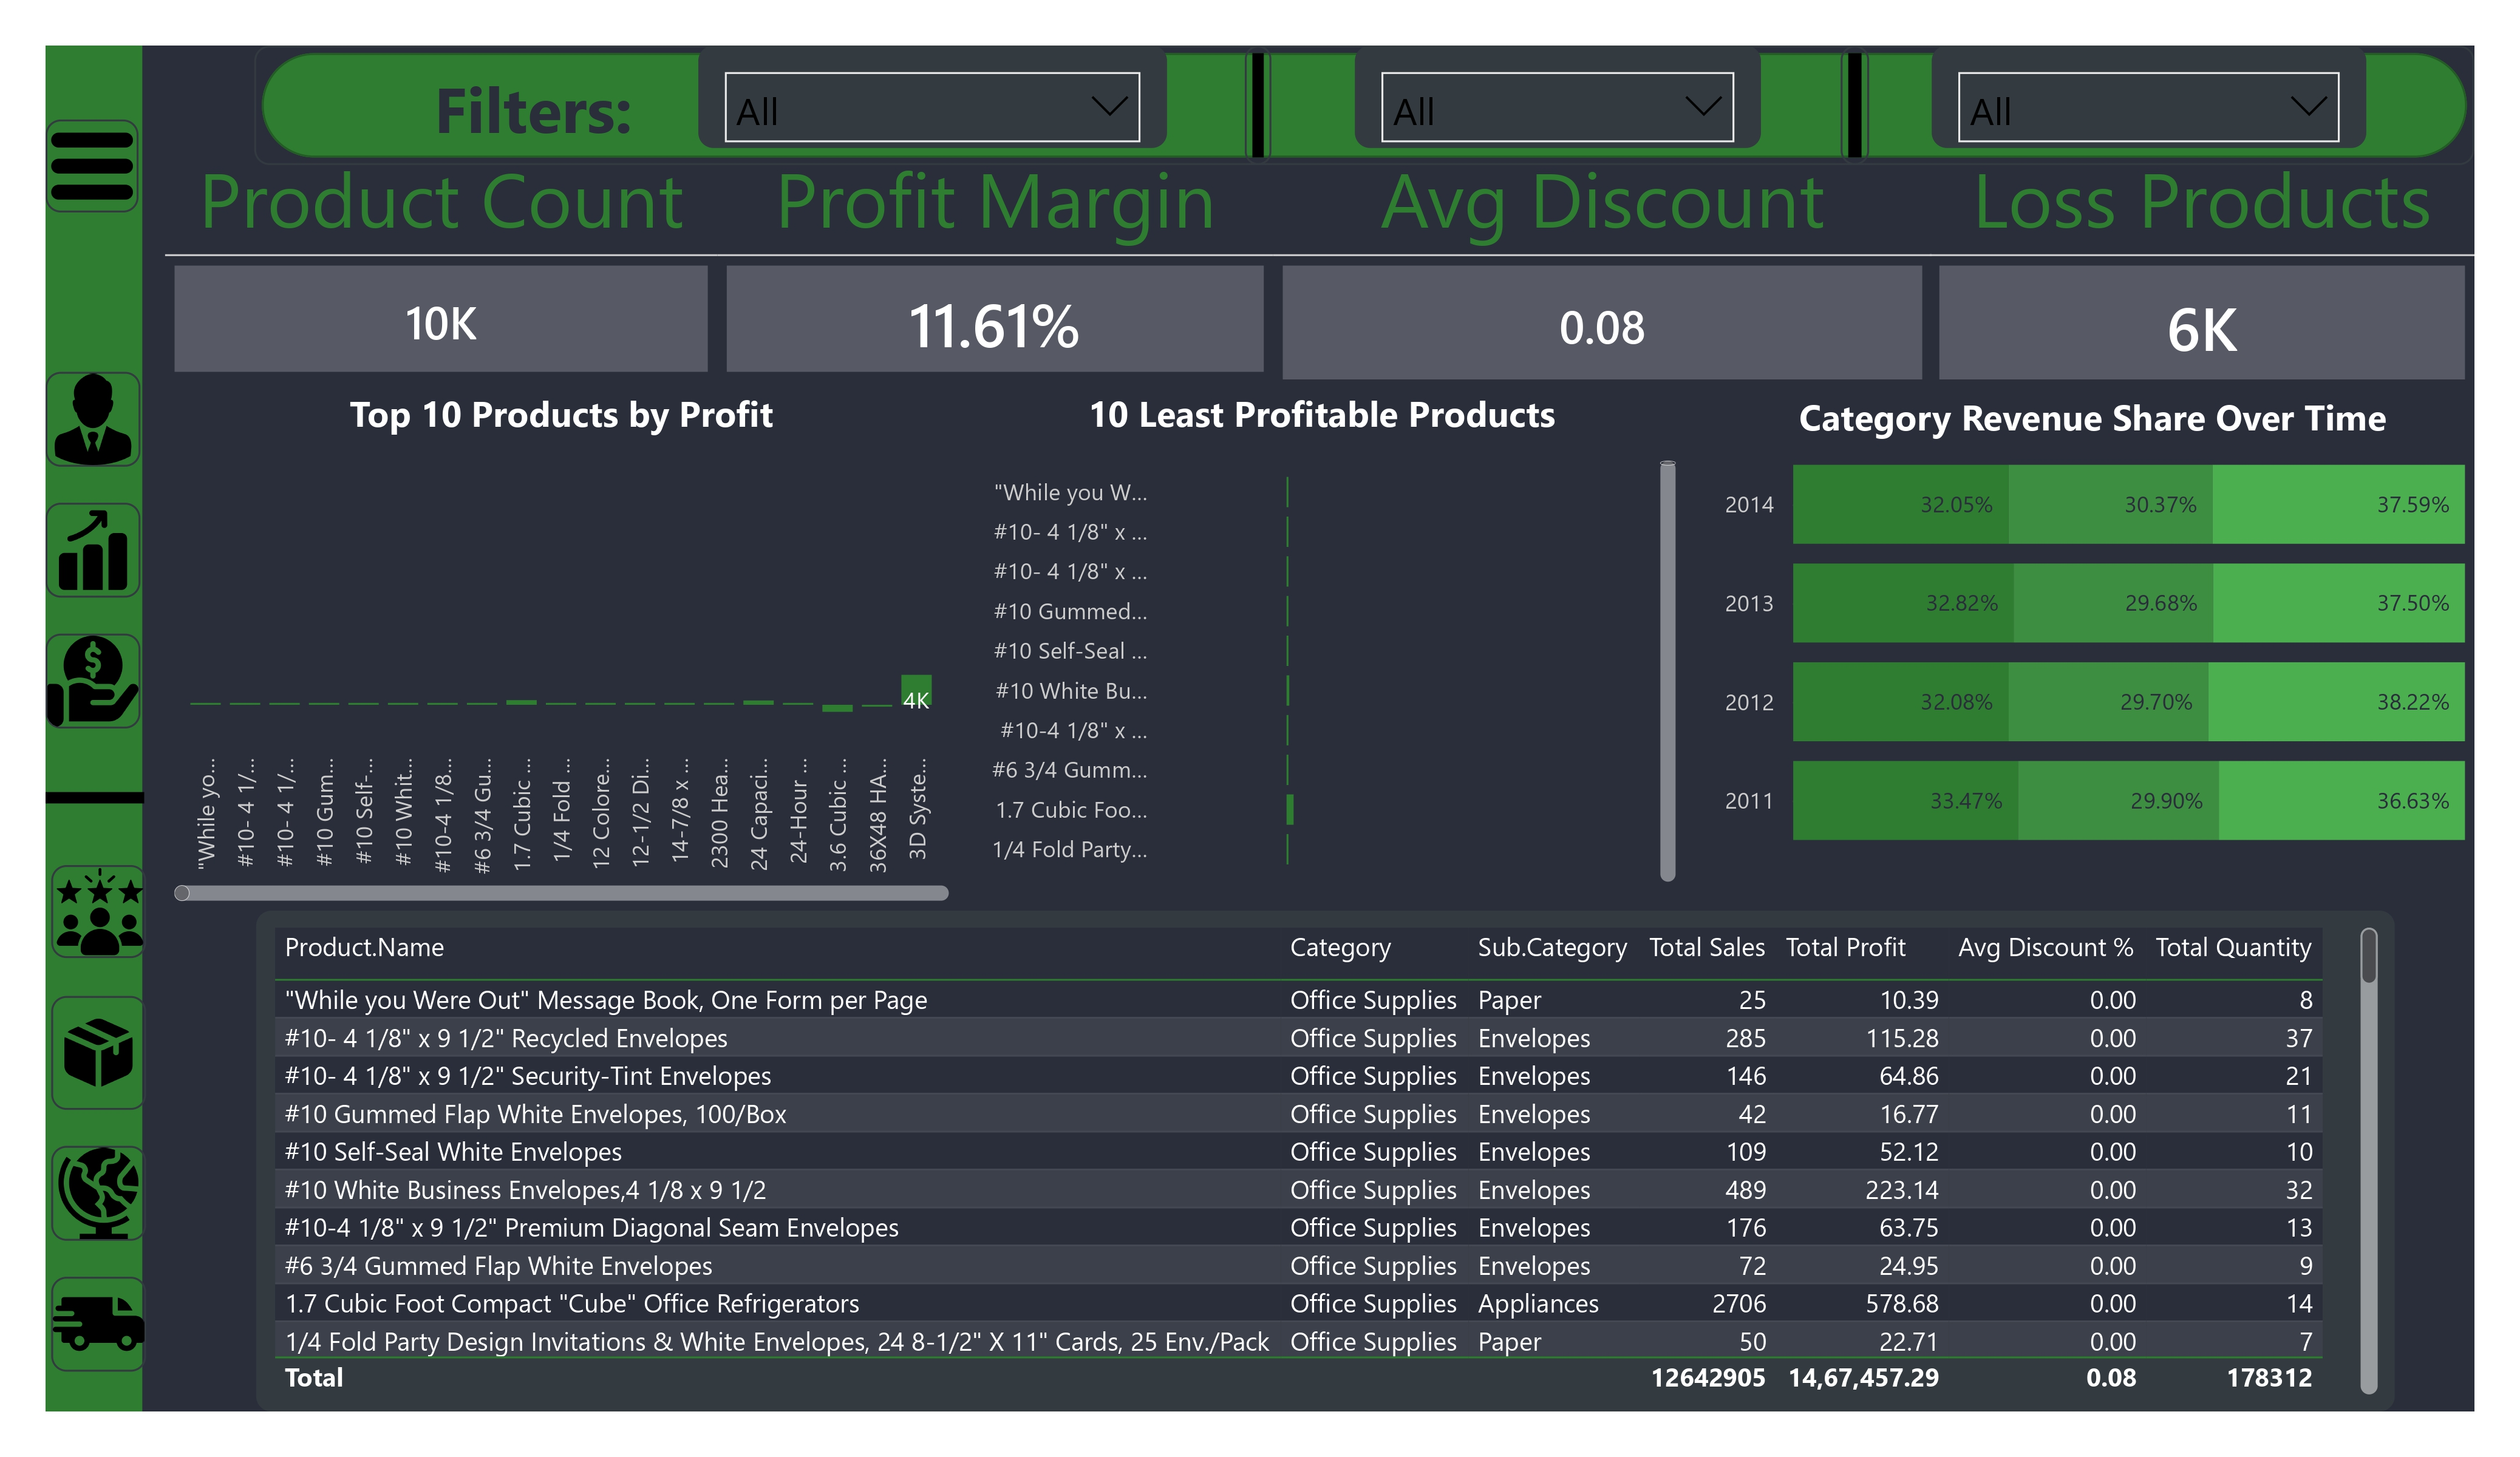

Layout of this report page (visuals, bound fields, positions):
{"tool":"powerbi","page":{"name":"Products","canvas":[1280,720],"ordinal":5},"visuals":[{"type":"group","id":"g1","title":"side bar collapsed","box":[0,0,52.7,720.4],"z":0},{"type":"shape","box":[0,0,50.6,720.4],"z":0,"group":"g1"},{"type":"shape","box":[110.3,0,1169.7,62.6],"z":0,"group":"g2"},{"type":"group","id":"g2","title":"title slicer","box":[110.3,0,1169.7,62.6],"z":1000},{"type":"slicer","fields":{"Values":["orders.Category"]},"box":[344.2,0,247.4,53.6],"z":1000,"group":"g2"},{"type":"image","box":[0,241.4,49.8,49.8],"z":1000,"group":"g1"},{"type":"slicer","fields":{"Values":["DateTable.Year"]},"box":[690,0,214.6,53.6],"z":2000,"group":"g2"},{"type":"cardVisual","title":"Product Count","fields":{"Data":["_Measures.Product Count"]},"box":[63.4,53.3,290.9,123.8],"z":2000},{"type":"image","box":[0,310.5,49.8,49.8],"z":2000,"group":"g1"},{"type":"slicer","fields":{"Values":["orders.Sub.Category"]},"box":[993.9,0,229.5,53.6],"z":3000,"group":"g2"},{"type":"cardVisual","title":"Profit Margin","fields":{"Data":["_Measures.Profit Margin %"]},"box":[354.2,53.3,292.3,123.8],"z":3000},{"type":"image","box":[3,431.6,49.8,49.8],"z":3000,"group":"g1"},{"type":"shape","box":[186.3,3,141.6,56.6],"z":4000,"group":"g2"},{"type":"cardVisual","title":"Avg Discount ","fields":{"Data":["_Measures.Avg Discount %"]},"box":[646.6,53.3,347,128.2],"z":4000},{"type":"image","box":[3,500.6,49.8,60],"z":4000,"group":"g1"},{"type":"shape","box":[631.8,0,14.9,62.6],"z":5000,"group":"g2"},{"type":"cardVisual","title":"Loss Products","fields":{"Data":["_Measures.Loss Product Count"]},"box":[993.4,53.3,286.6,128.2],"z":5000},{"type":"image","box":[3,579.9,49.8,49.8],"z":5000,"group":"g1"},{"type":"shape","box":[946.2,0,14.9,62.6],"z":6000,"group":"g2"},{"type":"image","box":[0,38.7,49.1,49.1],"z":6000,"group":"g1"},{"type":"columnChart","title":"Top 10 Products by Profit","fields":{"Category":["orders.Product.Name"],"Y":["_Measures.Total Profit"]},"box":[63.4,181.4,417.6,275],"z":6000},{"type":"image","box":[0,172.4,49.8,49.8],"z":7000,"group":"g1"},{"type":"barChart","title":"10 Least Profitable Products","fields":{"Category":["orders.Product.Name"],"Y":["_Measures.Total Profit"]},"box":[481,181.4,383,265],"z":7000},{"type":"hundredPercentStackedBarChart","title":"Category Revenue Share Over Time","fields":{"Series":["orders.Category"],"Category":["DateTable.Year"],"Y":["Sum(orders.Sales)"]},"box":[878.4,182.9,401.8,249.1],"z":8000},{"type":"shape","box":[0,385.5,52.1,22.3],"z":8000,"group":"g1"},{"type":"tableEx","fields":{"Values":["orders.Product.Name","orders.Category","orders.Sub.Category","_Measures.Total Sales","_Measures.Total Profit","_Measures.Avg Discount %","_Measures.Total Quantity"]},"box":[110.9,456.5,1127.5,263.5],"z":9000},{"type":"image","box":[3,648.9,49.8,49.8],"z":9000,"group":"g1"}]}

Visuals, with their boxes on the page's 1280x720 design canvas (x1, y1, x2, y2). These are canvas units, not pixel positions in the 2520x1457 screenshot, which may show the page scaled, cropped or inside an application window:
"side bar collapsed" group: rect(0, 0, 53, 720)
shape: rect(0, 0, 51, 720)
shape: rect(110, 0, 1280, 63)
"title slicer" group: rect(110, 0, 1280, 63)
slicer - orders.Category: rect(344, 0, 592, 54)
image: rect(0, 241, 50, 291)
slicer - DateTable.Year: rect(690, 0, 905, 54)
"Product Count" cardVisual: rect(63, 53, 354, 177)
image: rect(0, 310, 50, 360)
slicer - orders.Sub.Category: rect(994, 0, 1223, 54)
"Profit Margin" cardVisual: rect(354, 53, 646, 177)
image: rect(3, 432, 53, 481)
shape: rect(186, 3, 328, 60)
"Avg Discount " cardVisual: rect(647, 53, 994, 182)
image: rect(3, 501, 53, 561)
shape: rect(632, 0, 647, 63)
"Loss Products" cardVisual: rect(993, 53, 1280, 182)
image: rect(3, 580, 53, 630)
shape: rect(946, 0, 961, 63)
image: rect(0, 39, 49, 88)
"Top 10 Products by Profit" columnChart: rect(63, 181, 481, 456)
image: rect(0, 172, 50, 222)
"10 Least Profitable Products" barChart: rect(481, 181, 864, 446)
"Category Revenue Share Over Time" hundredPercentStackedBarChart: rect(878, 183, 1280, 432)
shape: rect(0, 386, 52, 408)
tableEx - orders.Product.Name x orders.Category: rect(111, 456, 1238, 720)
image: rect(3, 649, 53, 699)
